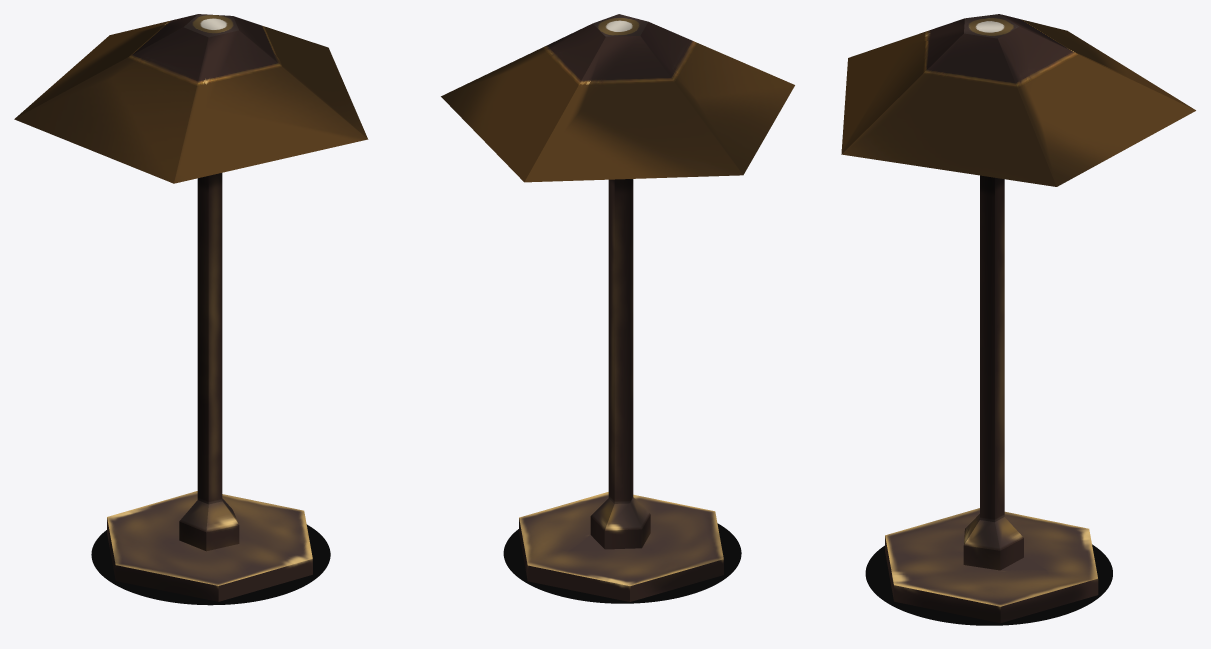
File: lamp_small.fbx
The picture shows the model from 3 angles, left to right: view 1: azimuth 30°, elevation 25°; view 2: azimuth 150°, elevation 25°; view 3: azimuth 270°, elevation 25°; orthographic projection. The views are drawn at different scales.
Parts seen in each view (by area): view 1: torch_lampA, shadow; view 2: torch_lampA, shadow; view 3: torch_lampA, shadow.
Boxes of the visible parts, left/top/right/bottom form: torch_lampA: left=14, top=14, right=368, bottom=601; shadow: left=91, top=524, right=330, bottom=605; torch_lampA: left=441, top=14, right=794, bottom=601; shadow: left=503, top=523, right=741, bottom=603; torch_lampA: left=841, top=14, right=1195, bottom=623; shadow: left=865, top=544, right=1112, bottom=625.
Size of the model in its own units: 1.22 by 2 by 1.17.
2 materials, 2 textured.
